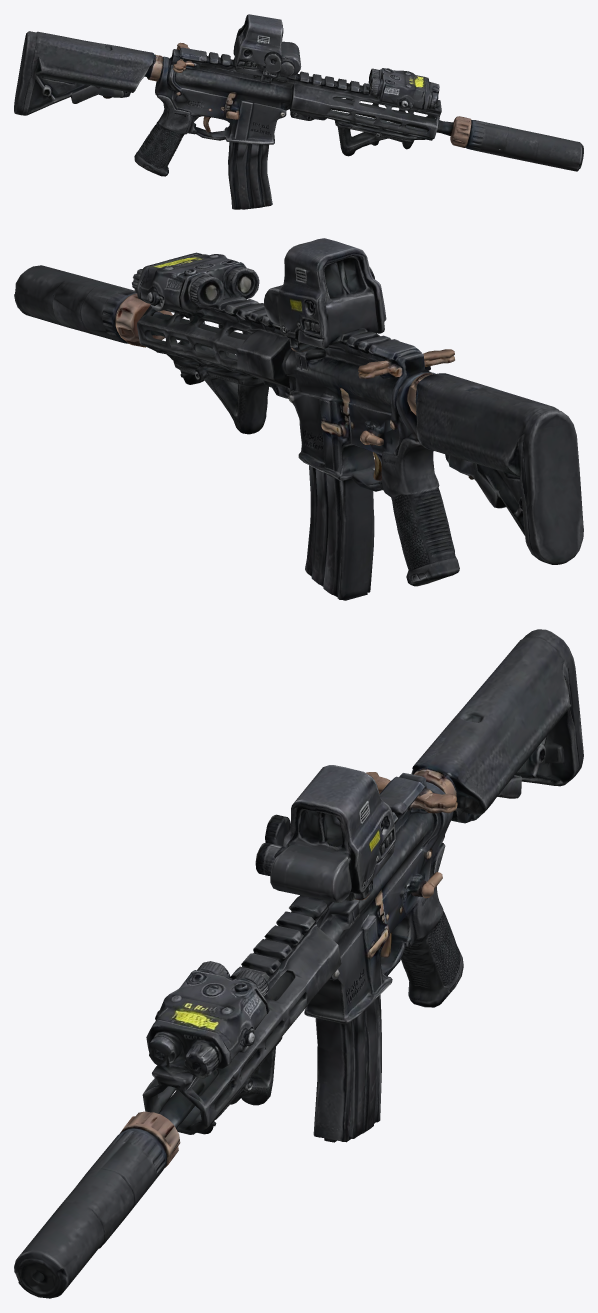
File: m416-normal.glb
The picture shows the model from 3 angles, top to bottom: view 1: azimuth 30°, elevation 25°; view 2: azimuth 150°, elevation 25°; view 3: azimuth 270°, elevation 25°; orthographic projection. The views are drawn at different scales.
Visible parts, largest first — view 1: tripo_node_481bd01f-c5c6-413f-ae91-9a9a886ddf7d; view 2: tripo_node_481bd01f-c5c6-413f-ae91-9a9a886ddf7d; view 3: tripo_node_481bd01f-c5c6-413f-ae91-9a9a886ddf7d.
Part boxes in pixels (left/top/right/bottom): tripo_node_481bd01f-c5c6-413f-ae91-9a9a886ddf7d: left=14, top=14, right=583, bottom=209; tripo_node_481bd01f-c5c6-413f-ae91-9a9a886ddf7d: left=14, top=238, right=583, bottom=600; tripo_node_481bd01f-c5c6-413f-ae91-9a9a886ddf7d: left=14, top=629, right=583, bottom=1298.
Size of the model in its own units: 0.9793 by 0.3992 by 0.5696.
Materials: 1 (1 with a texture image).
